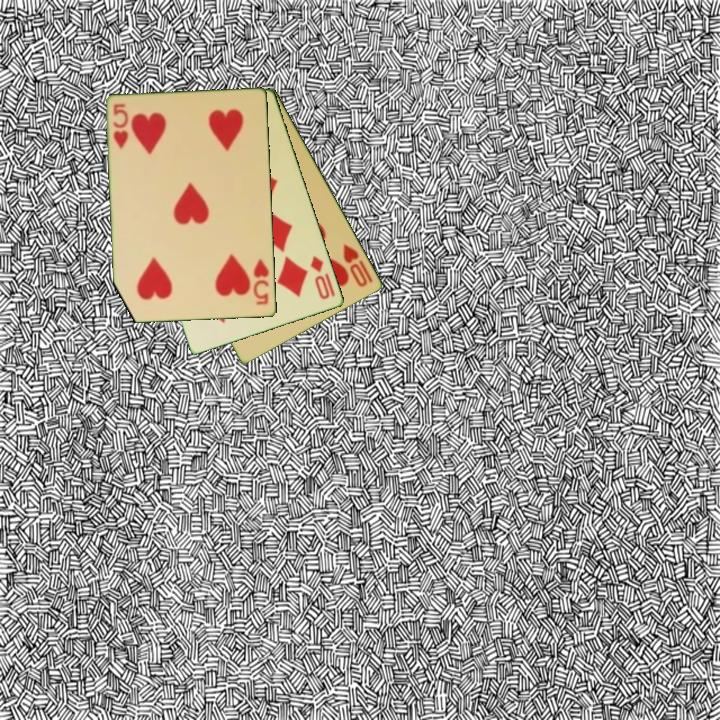10d: (307, 252, 338, 303)
10h: (340, 240, 371, 290)
5h: (250, 255, 272, 308), (110, 100, 132, 152)
